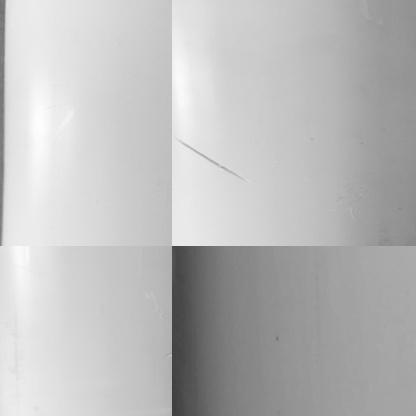sunshang: (176, 132, 253, 186)
